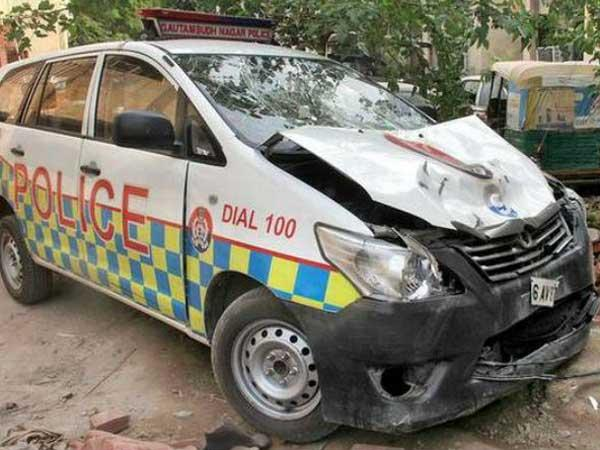Emergency-Vehicles: (0, 0, 589, 444)
